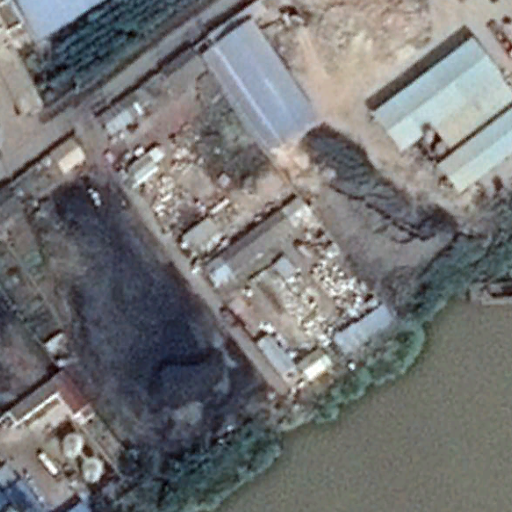msw: (275, 235, 386, 342), (146, 141, 229, 239)
